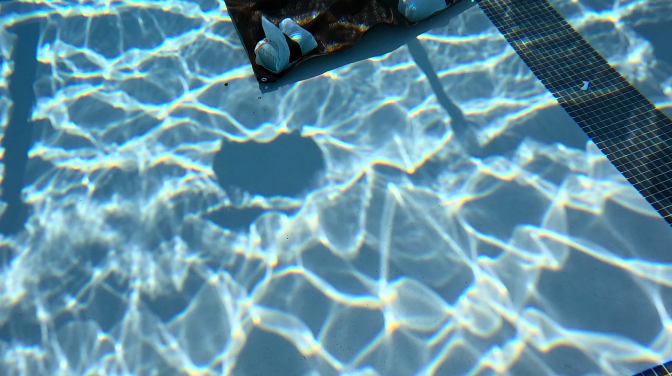sandbag: (224, 0, 459, 84)
